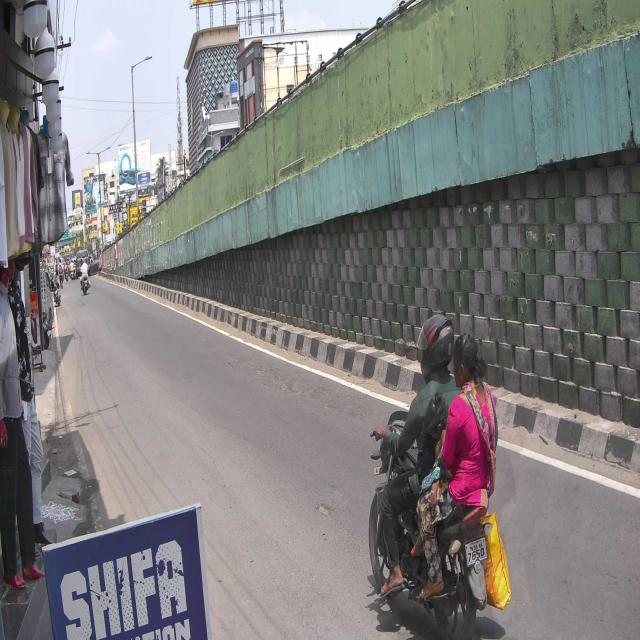double_rider: (364, 310, 504, 640)
